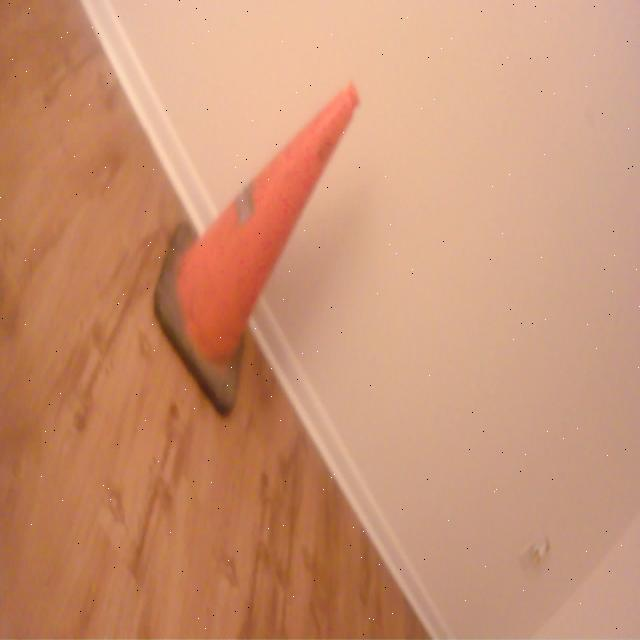traffic cone: (150, 78, 364, 426)
